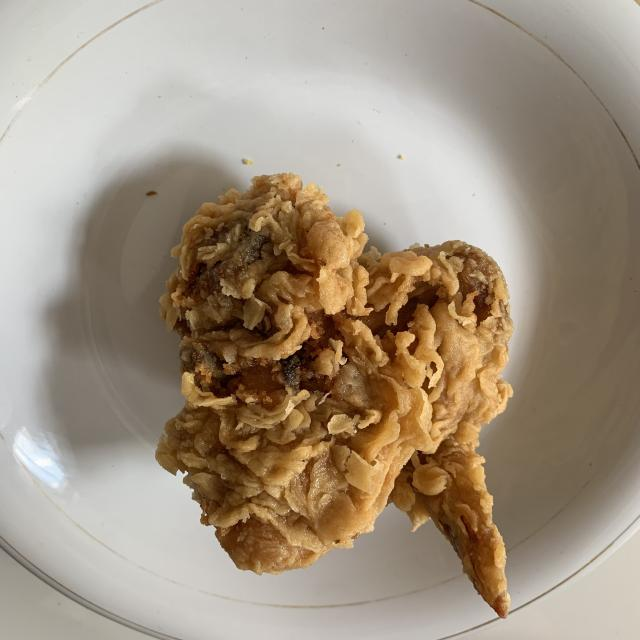Frango: (155, 168, 514, 616)
